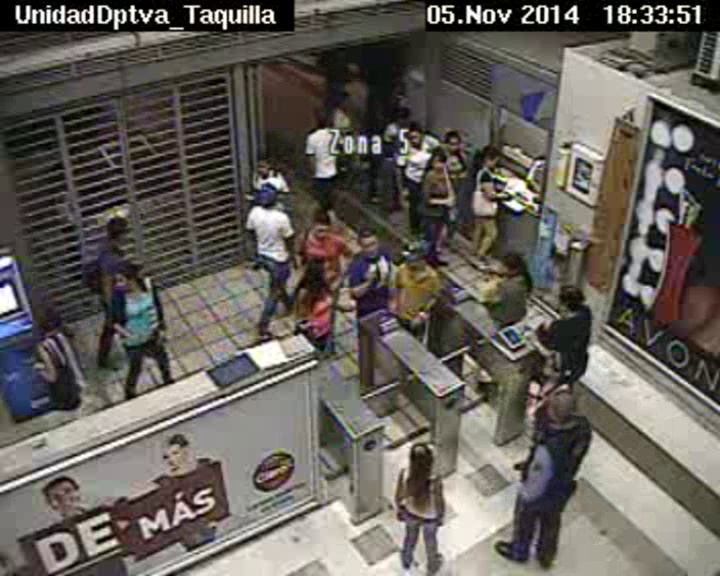person: (111, 261, 144, 293), (545, 391, 576, 425), (557, 283, 586, 313), (404, 239, 432, 269), (306, 258, 334, 287), (308, 210, 335, 240), (409, 443, 435, 471), (36, 307, 62, 333), (358, 229, 381, 258), (502, 248, 526, 273), (105, 216, 129, 241), (257, 183, 278, 207), (252, 155, 274, 177), (479, 146, 499, 168), (444, 130, 463, 152), (405, 125, 424, 146), (429, 149, 447, 170), (394, 106, 412, 124), (334, 92, 352, 110), (315, 109, 332, 128), (343, 63, 360, 80), (366, 99, 382, 114)
